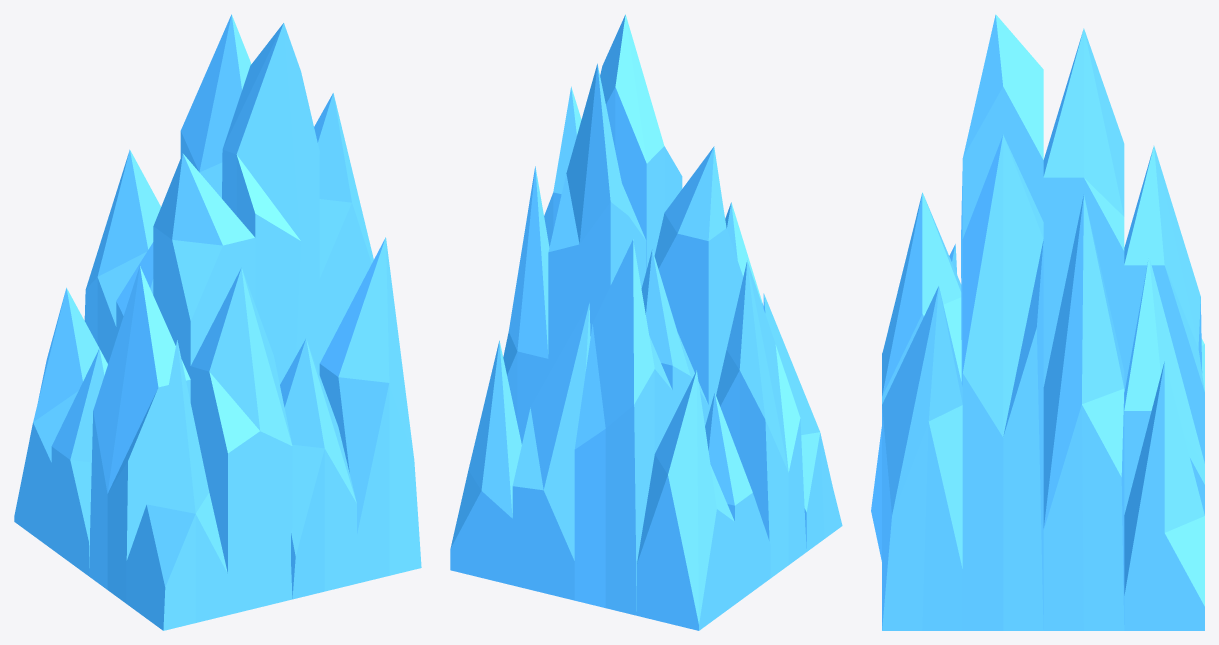
File: Glace.fbx
3 views of the same model, side by side, from view 1: azimuth 30°, elevation 25°; view 2: azimuth 150°, elevation 25°; view 3: azimuth 270°, elevation 25° (orthographic). The views are drawn at different scales.
Parts seen in each view (by area): view 1: Plan; view 2: Plan; view 3: Plan.
Part boxes in pixels (x1,y1,x2,y2): Plan: [14, 14, 421, 630]; Plan: [450, 14, 842, 630]; Plan: [871, 14, 1204, 630].
Bounding box in the file's own units: 50 × 51.71 × 97.7.
